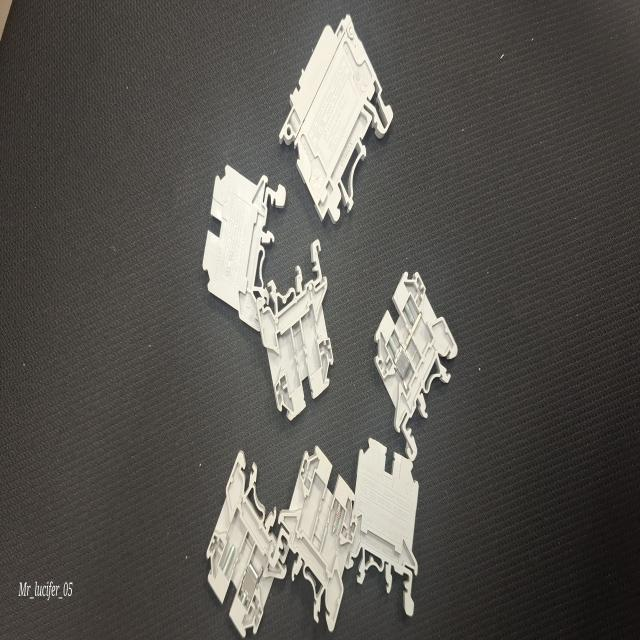Inverted: (201, 158, 286, 331), (352, 438, 419, 621)
Reject: (374, 268, 458, 458), (205, 448, 286, 633), (280, 446, 354, 638), (258, 238, 334, 422)
